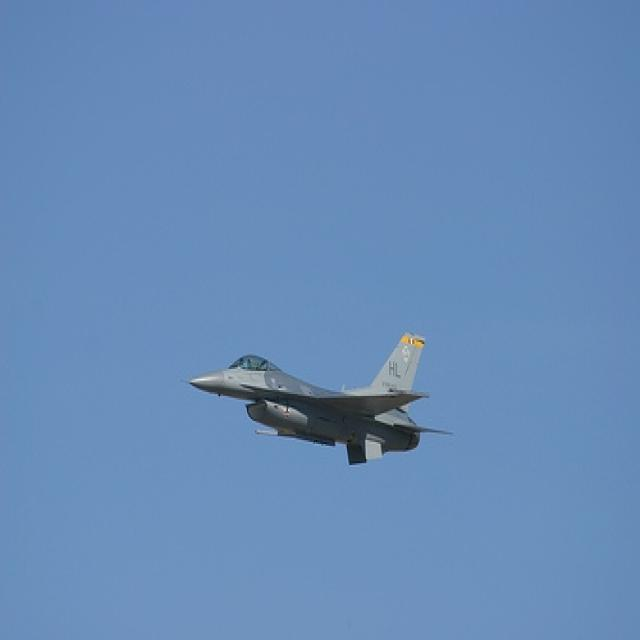aeroplane: (181, 332, 453, 469)
